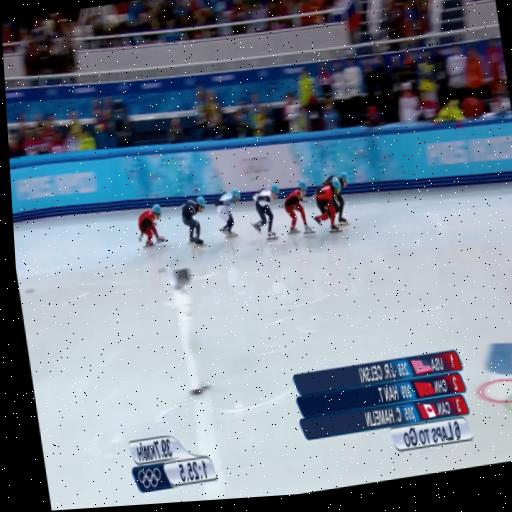Skater: (283, 181, 312, 234), (251, 184, 278, 239), (312, 179, 340, 231), (214, 189, 240, 237), (181, 196, 205, 245), (137, 205, 164, 246), (332, 192, 346, 225)
